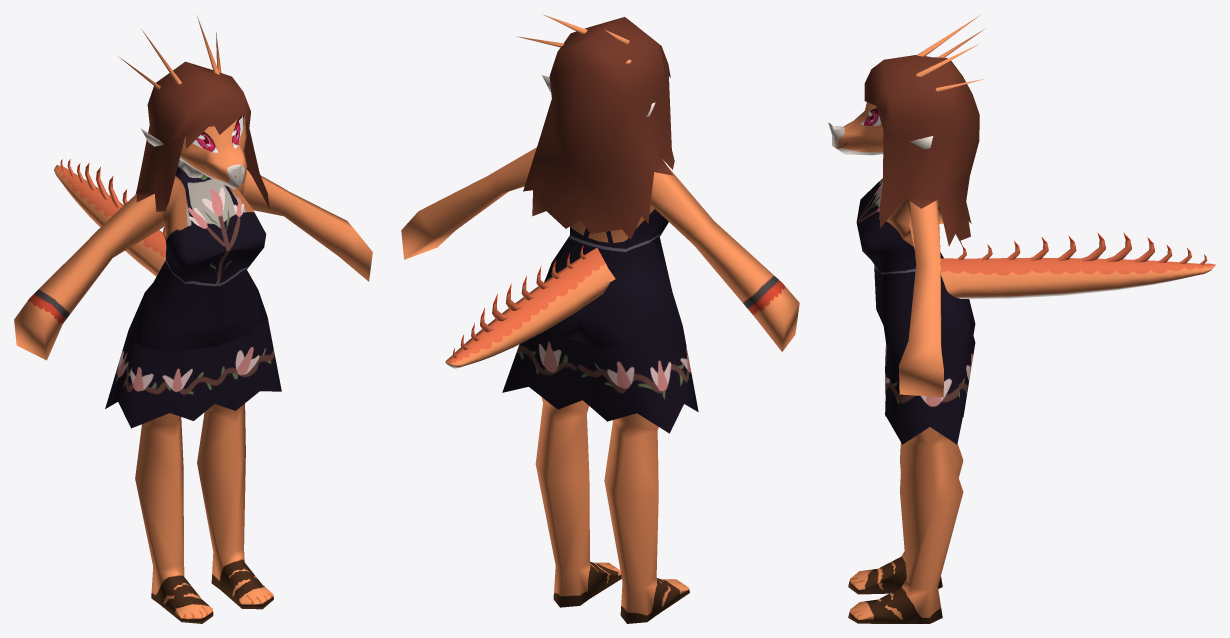
Rendered from Rosa.fbx.
The picture shows the model from 3 angles, left to right: view 1: azimuth 30°, elevation 25°; view 2: azimuth 150°, elevation 25°; view 3: azimuth 270°, elevation 25°; orthographic projection. The views are drawn at different scales.
Parts seen in each view (by area): view 1: Rosa; view 2: Rosa; view 3: Rosa.
Part boxes in pixels (x1,y1,x2,y2): Rosa: [14, 16, 372, 623]; Rosa: [401, 14, 799, 623]; Rosa: [828, 15, 1215, 623].
Bounding box in the file's own units: 115 × 175 × 107.
1 material, 1 textured.
